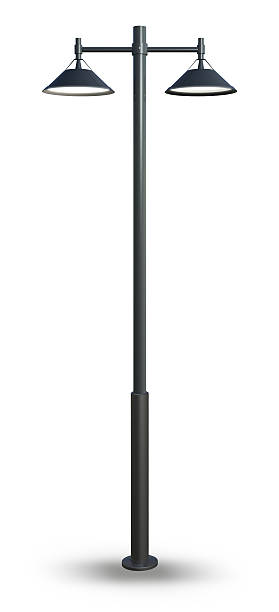light_pole: (126, 30, 156, 564)
